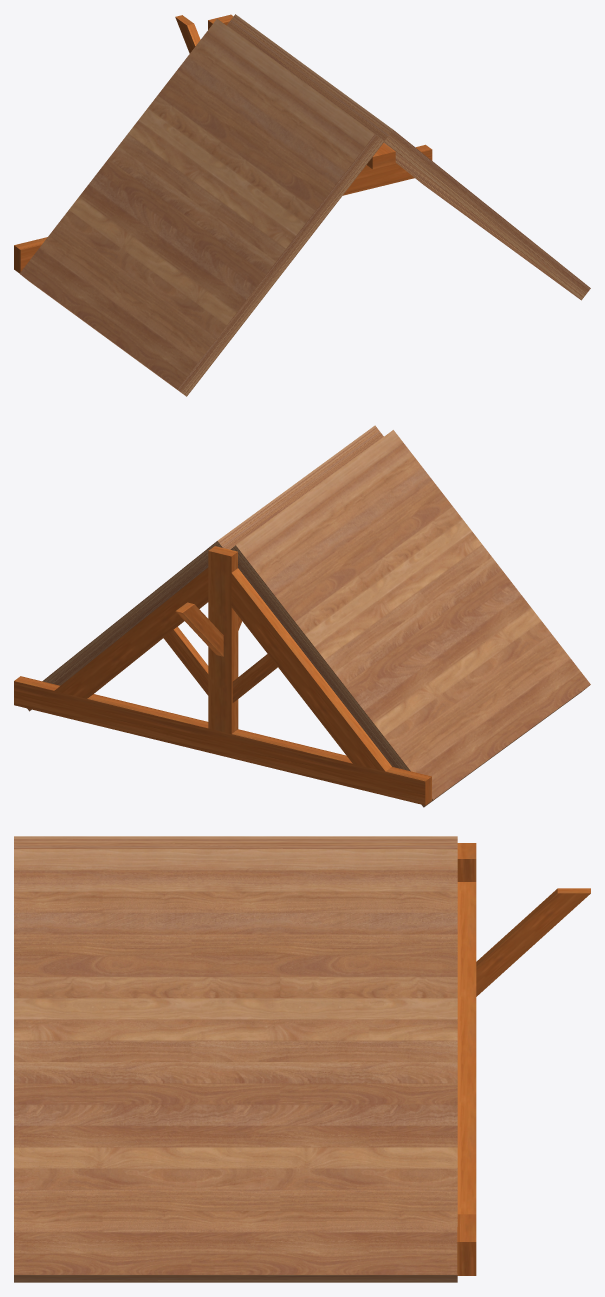
The model's file is Charpente.fbx.
3 renders of one model, top to bottom at view 1: azimuth 30°, elevation 25°; view 2: azimuth 150°, elevation 25°; view 3: azimuth 270°, elevation 25°, orthographic. The views are drawn at different scales.
Visible parts, largest first — view 1: Cube, Entrait, LienDeFaitage; view 2: Cube, Entrait, Arbaletrier, Poincon, Contre-fiche, LienDeFaitage; view 3: Cube, Arbaletrier, LienDeFaitage, Entrait, Poincon.
Boxes of the visible parts, x1=… form: Cube: x1=19, y1=14, x2=590, y2=396; Entrait: x1=14, y1=144, x2=432, y2=273; LienDeFaitage: x1=175, y1=15, x2=200, y2=53; Cube: x1=27, y1=425, x2=590, y2=807; Entrait: x1=14, y1=676, x2=431, y2=805; Arbaletrier: x1=54, y1=567, x2=391, y2=771; Poincon: x1=208, y1=546, x2=238, y2=733; Contre-fiche: x1=163, y1=626, x2=277, y2=702; LienDeFaitage: x1=175, y1=602, x2=242, y2=656; Cube: x1=14, y1=836, x2=457, y2=1282; Arbaletrier: x1=457, y1=882, x2=476, y2=1214; LienDeFaitage: x1=476, y1=888, x2=590, y2=996; Entrait: x1=457, y1=1214, x2=476, y2=1275; Poincon: x1=457, y1=843, x2=476, y2=881.
Bounding box in the file's own units: 2536 × 1270 × 2180.
Materials: 2 (2 with a texture image).
